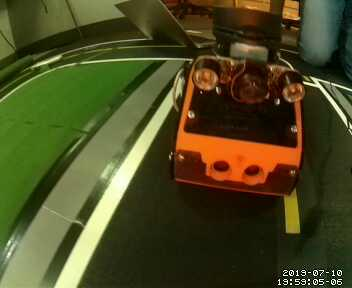pheeno: (171, 11, 311, 205)
